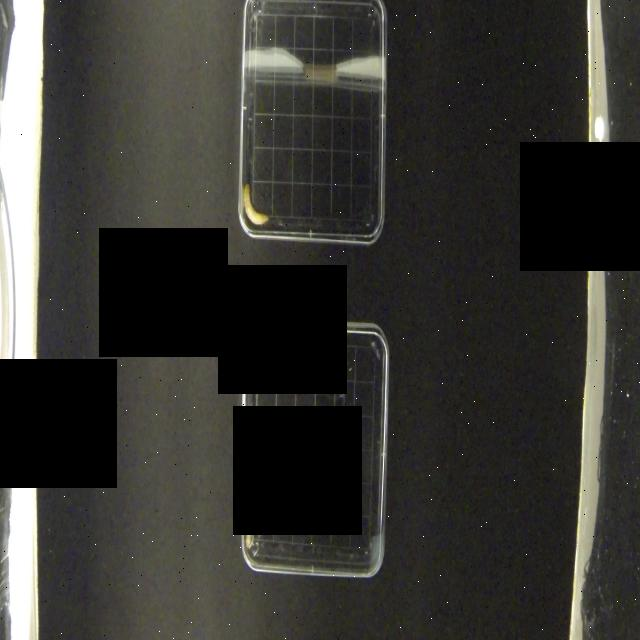larva: (245, 184, 267, 228), (247, 497, 255, 549)
